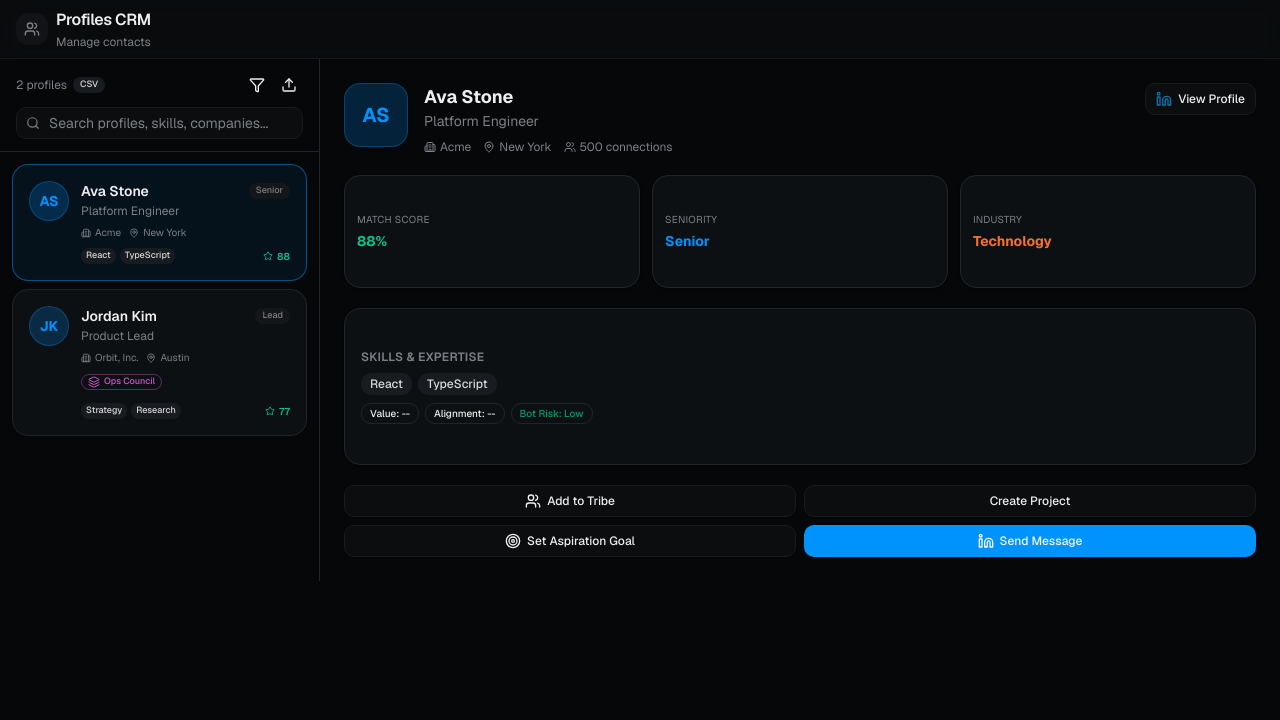
ProfilesPanel regression › keeps selected CSV profiles stable across reparses and respects quoted fields
Later steps or results of the test are not shown.
Expected: the heading "Ava Stone" is shown, [424,85,513,108]
Step 1. Click the button "Jordan Kim" → (160, 362), box [12,289,307,436]
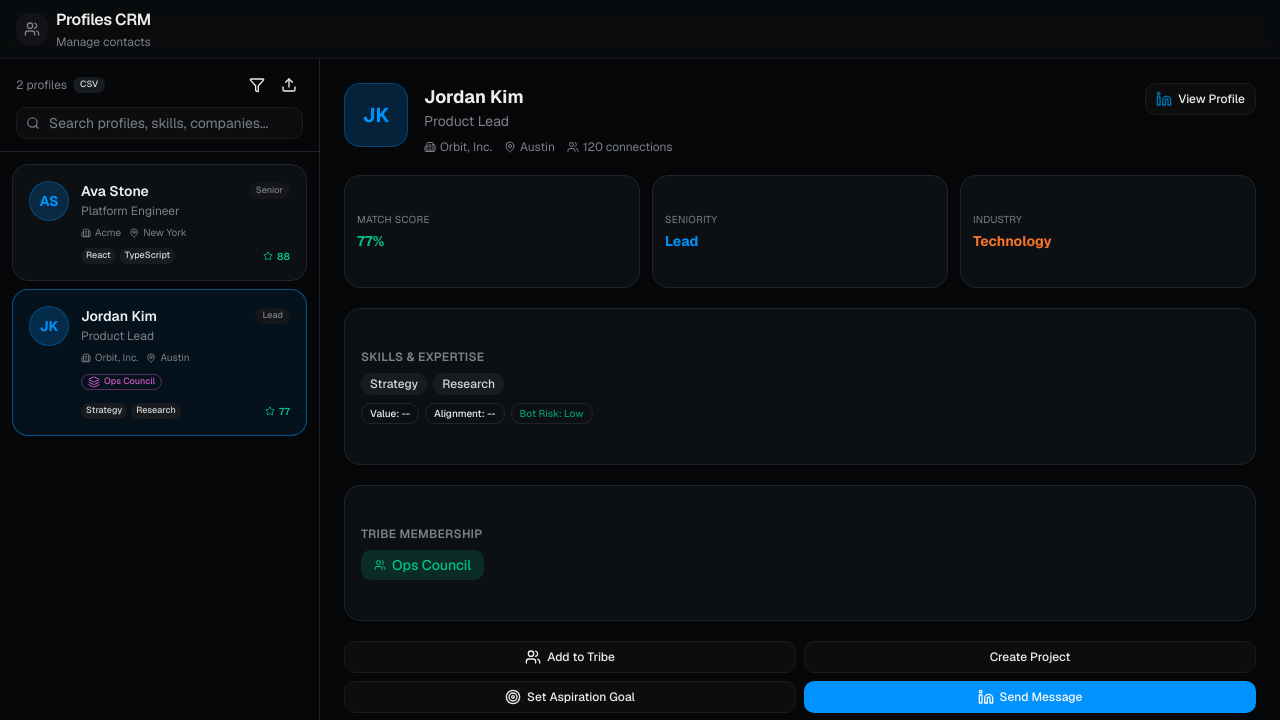
Expected: the text "Orbit, Inc." below "csv" is shown, [95,351,138,364]
Result: the heading "Jordan Kim" is shown at [424,85,524,108]
